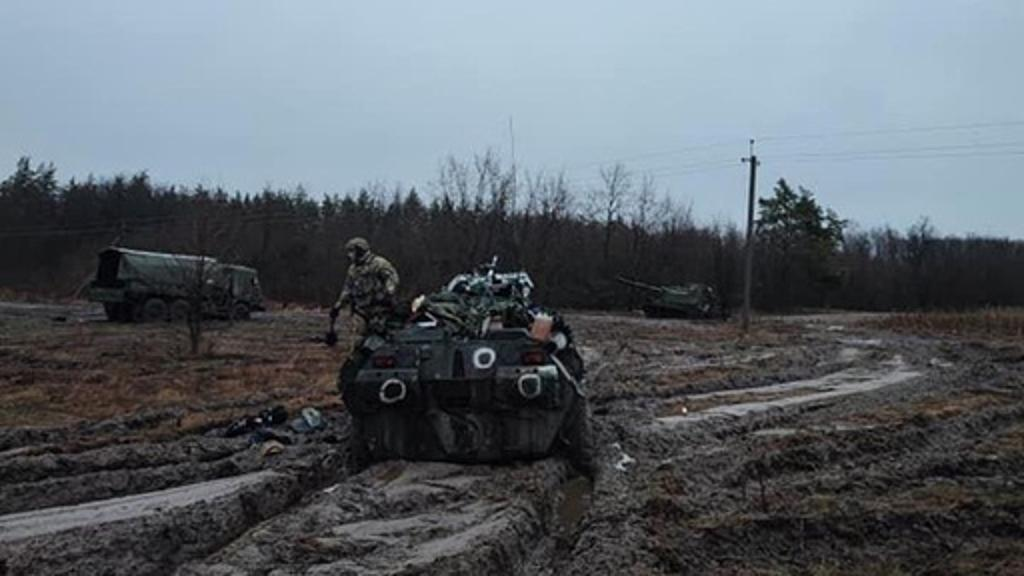APC-IFV: (332, 250, 588, 462)
ART: (614, 268, 724, 326)
TRUCK: (88, 242, 274, 336)
